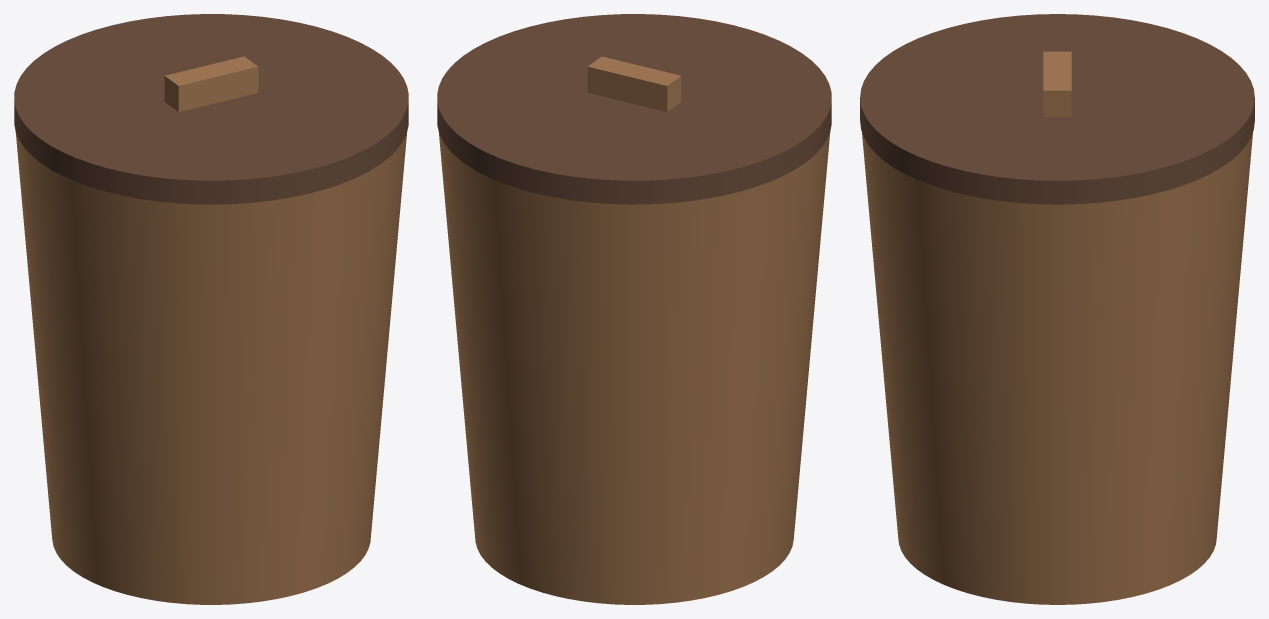
The model's file is laundry_hamper.glb.
The picture shows the model from 3 angles, left to right: view 1: azimuth 30°, elevation 25°; view 2: azimuth 150°, elevation 25°; view 3: azimuth 270°, elevation 25°; orthographic projection.
Visible parts, largest first — view 1: Woven basket, Lid, Lid handle; view 2: Woven basket, Lid, Lid handle; view 3: Woven basket, Lid, Lid handle.
Boxes of the visible parts, <box> form: Woven basket: <box>15,131,407,604</box>; Lid: <box>14,14,408,204</box>; Lid handle: <box>164,56,258,111</box>; Woven basket: <box>438,131,830,604</box>; Lid: <box>437,14,831,204</box>; Lid handle: <box>587,56,681,111</box>; Woven basket: <box>862,132,1252,604</box>; Lid: <box>860,14,1254,204</box>; Lid handle: <box>1043,51,1071,116</box>.
Size of the model in its own units: 0.451 by 0.588 by 0.451.
